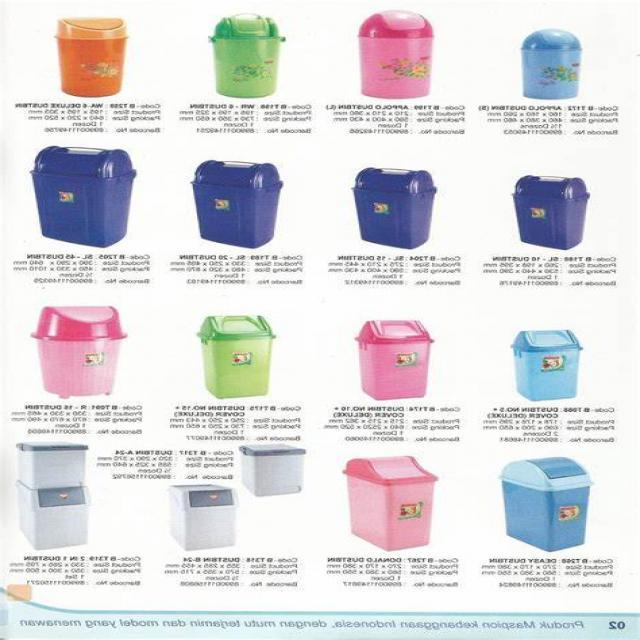garbage container: (456, 449, 612, 556), (468, 308, 620, 402), (16, 140, 148, 248), (480, 147, 610, 256), (312, 2, 450, 102), (326, 145, 445, 257), (322, 450, 448, 554), (13, 5, 145, 104), (11, 296, 137, 399), (478, 18, 626, 103), (166, 156, 296, 252), (312, 314, 450, 404), (166, 6, 296, 101), (162, 308, 290, 402), (162, 485, 232, 556), (231, 443, 307, 503), (15, 496, 89, 552), (11, 440, 88, 492)
